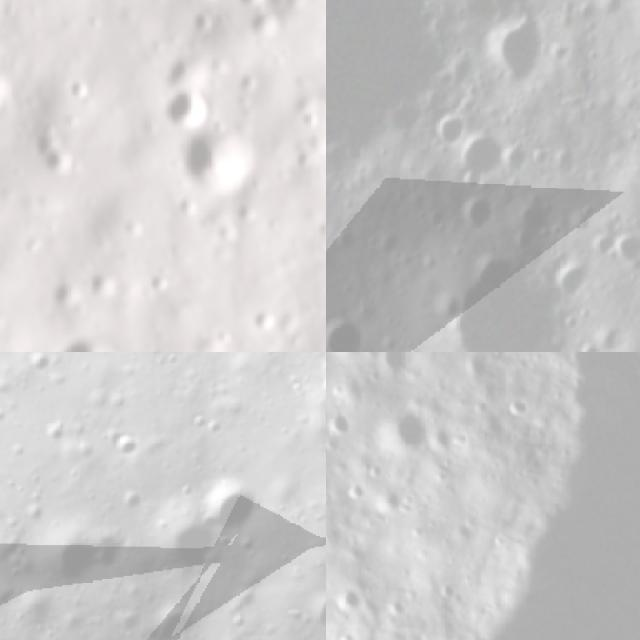crater: (326, 0, 449, 161), (435, 252, 576, 352), (20, 508, 126, 608), (134, 502, 232, 594), (200, 467, 278, 548), (175, 116, 257, 192), (476, 12, 550, 93), (364, 406, 430, 456), (456, 131, 511, 188), (153, 76, 212, 127), (512, 197, 558, 260), (50, 324, 126, 352), (300, 352, 326, 422), (554, 255, 595, 299), (326, 311, 370, 352), (80, 261, 123, 302), (433, 110, 471, 155), (457, 195, 499, 232), (38, 271, 74, 310), (302, 584, 326, 640), (609, 231, 640, 274), (552, 144, 584, 181), (326, 227, 361, 260), (372, 230, 403, 267), (144, 260, 173, 292), (375, 352, 418, 373), (0, 51, 16, 105), (62, 74, 90, 103), (531, 142, 553, 178), (339, 475, 367, 501), (501, 397, 529, 421), (376, 491, 402, 516), (230, 0, 270, 12), (433, 581, 457, 601), (329, 412, 348, 434), (580, 340, 609, 352), (336, 628, 353, 640)
